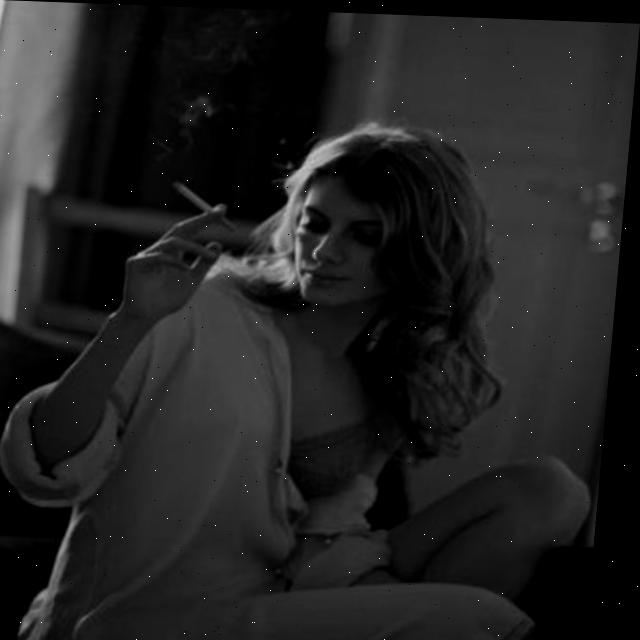cigarette: (173, 177, 247, 232)
